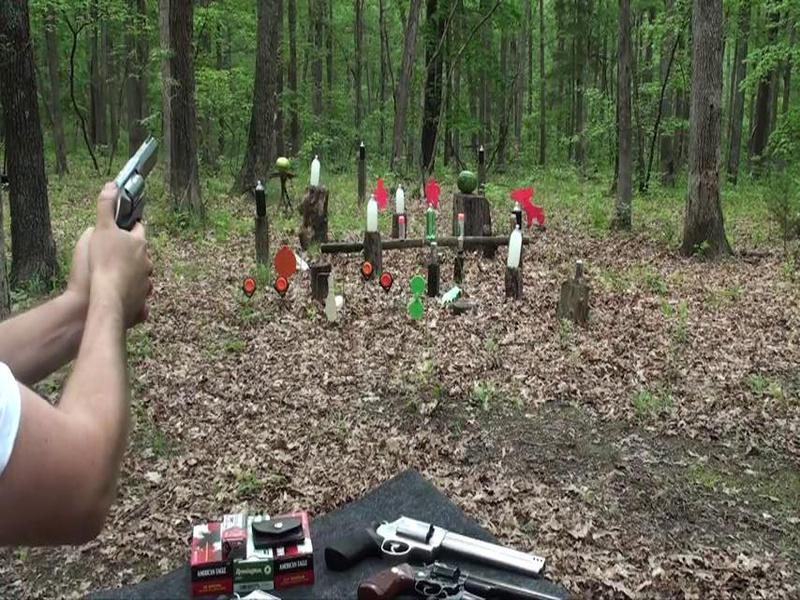Revolver: (101, 117, 175, 263)
